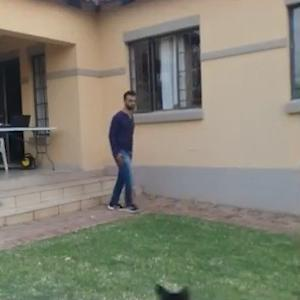follow: (113, 91, 145, 201)
